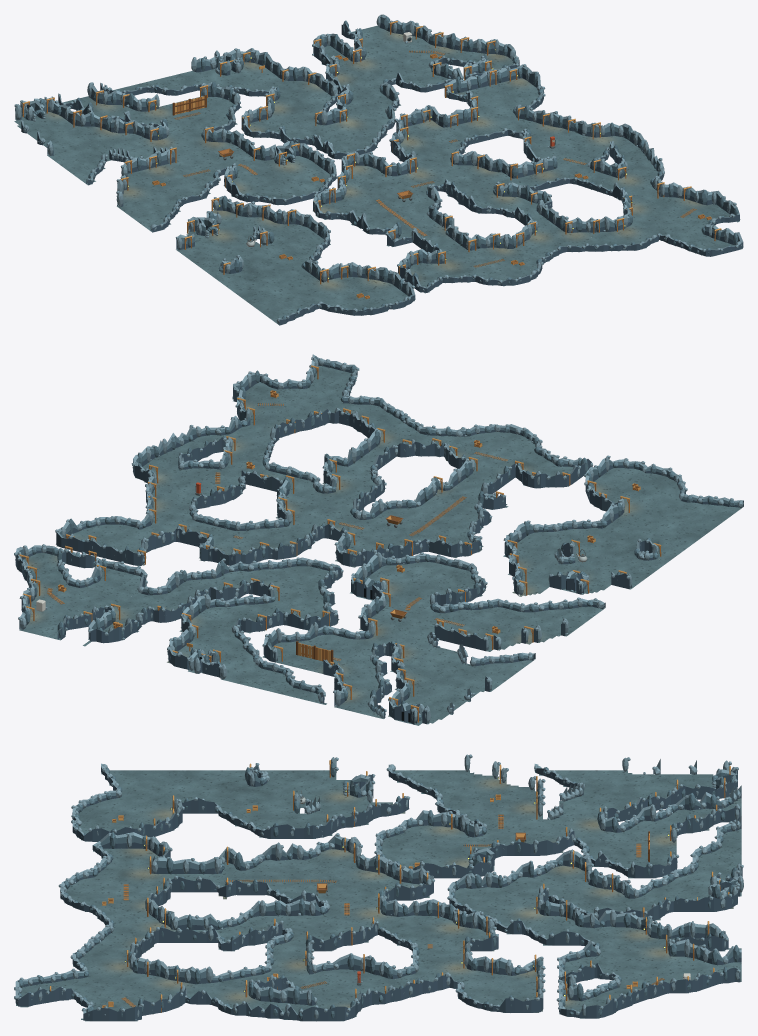
The model's file is terrain-props.glb.
3 views of the same model, one above another, from view 1: azimuth 30°, elevation 25°; view 2: azimuth 150°, elevation 25°; view 3: azimuth 270°, elevation 25° (orthographic). The views are drawn at different scales.
Parts seen in each view (by area): view 1: hm09-opaque-chunk-2-2, hm09-opaque-chunk-0-3, hm09-opaque-chunk-1-1, hm09-opaque-chunk-4-0, hm09-opaque-chunk-0-0, hm09-opaque-chunk-2-4, hm09-opaque-chunk-3-1, hm09-opaque-chunk-0-4, hm09-opaque-chunk-2-0, hm09-opaque-chunk-1-0, hm09-opaque-chunk-3-2, hm09-opaque-chunk-3-3 (+21 smaller); view 2: hm09-opaque-chunk-0-4, hm09-opaque-chunk-3-1, hm09-opaque-chunk-2-0, hm09-opaque-chunk-1-1, hm09-opaque-chunk-0-3, hm09-opaque-chunk-2-3, hm09-opaque-chunk-4-0, hm09-opaque-chunk-1-0, hm09-opaque-chunk-0-0, hm09-opaque-chunk-3-3, hm09-opaque-chunk-2-2, hm09-opaque-chunk-0-2 (+21 smaller); view 3: hm09-opaque-chunk-4-0, hm09-opaque-chunk-0-3, hm09-opaque-chunk-2-1, hm09-opaque-chunk-1-0, hm09-opaque-chunk-3-2, hm09-opaque-chunk-2-2, hm09-opaque-chunk-0-4, hm09-opaque-chunk-1-1, hm09-opaque-chunk-2-3, hm09-opaque-chunk-3-3, hm09-opaque-chunk-2-4, hm09-opaque-chunk-0-0 (+22 smaller).
Boxes of the visible parts, box(x1,y1,x2,y2) form: hm09-opaque-chunk-2-2: box(274, 140, 411, 204); hm09-opaque-chunk-0-3: box(175, 221, 302, 285); hm09-opaque-chunk-1-1: box(135, 121, 273, 182); hm09-opaque-chunk-4-0: box(330, 14, 456, 80); hm09-opaque-chunk-0-0: box(14, 93, 134, 160); hm09-opaque-chunk-2-4: box(387, 225, 525, 283); hm09-opaque-chunk-3-1: box(298, 79, 435, 142); hm09-opaque-chunk-0-4: box(226, 259, 362, 325); hm09-opaque-chunk-2-0: box(159, 48, 296, 120); hm09-opaque-chunk-1-0: box(80, 79, 215, 140); hm09-opaque-chunk-3-2: box(355, 118, 483, 184); hm09-opaque-chunk-3-3: box(412, 154, 548, 217); hm09-opaque-chunk-0-4: box(597, 482, 743, 549); hm09-opaque-chunk-3-1: box(145, 543, 294, 621); hm09-opaque-chunk-2-0: box(172, 614, 320, 688); hm09-opaque-chunk-1-1: box(322, 588, 471, 664); hm09-opaque-chunk-0-3: box(535, 528, 684, 590); hm09-opaque-chunk-2-3: box(358, 476, 508, 545); hm09-opaque-chunk-4-0: box(18, 576, 144, 640); hm09-opaque-chunk-1-0: box(259, 641, 409, 710); hm09-opaque-chunk-0-0: box(348, 660, 497, 725); hm09-opaque-chunk-3-3: box(276, 454, 388, 530); hm09-opaque-chunk-2-2: box(296, 527, 446, 595); hm09-opaque-chunk-0-2: box(472, 570, 605, 638); hm09-opaque-chunk-4-0: box(610, 933, 741, 994); hm09-opaque-chunk-0-3: box(223, 757, 353, 814); hm09-opaque-chunk-2-1: box(478, 847, 616, 904); hm09-opaque-chunk-1-0: box(612, 802, 741, 862); hm09-opaque-chunk-3-2: box(350, 891, 485, 949); hm09-opaque-chunk-2-2: box(352, 843, 483, 904); hm09-opaque-chunk-0-4: box(93, 763, 222, 814); hm09-opaque-chunk-1-1: box(480, 799, 613, 859); hm09-opaque-chunk-2-3: box(218, 842, 352, 904); hm09-opaque-chunk-3-3: box(221, 890, 353, 949); hm09-opaque-chunk-2-4: box(92, 847, 226, 904); hm09-opaque-chunk-0-0: box(612, 757, 741, 814).
Size of the model in its own units: 64.01 by 2.33 by 78.18.
2 materials, 1 textured.
